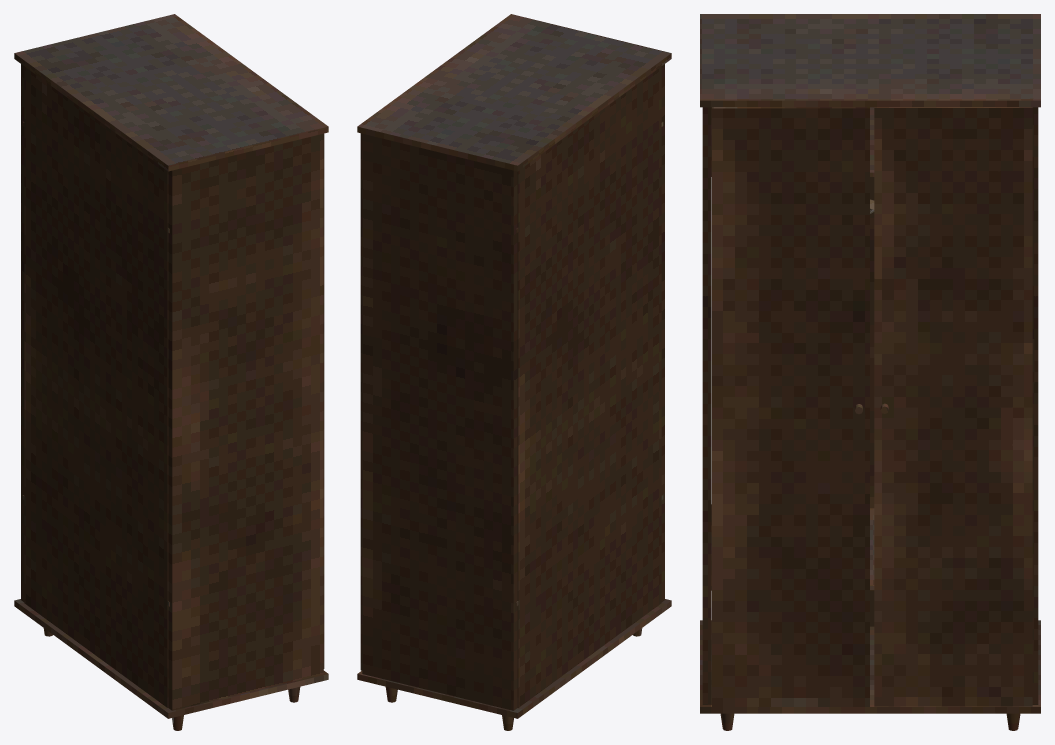
File: wardrobe_psx.glb
3 views of the same model, side by side, from view 1: azimuth 30°, elevation 25°; view 2: azimuth 150°, elevation 25°; view 3: azimuth 270°, elevation 25° (orthographic). The views are drawn at different scales.
Parts seen in each view (by area): view 1: Cube.002, Cube, Cube.003, Cube.001, Cube.006; view 2: Cube.002, Cube, Cube.003, Cube.001, Cube.005; view 3: Cube.005, Cube.006, Cube.003, Cube.002, Cube.001, Cube.
Boxes of the visible parts, <box> form: Cube.002: <box>21,64,323,710</box>; Cube: <box>24,66,168,707</box>; Cube.003: <box>14,14,328,171</box>; Cube.001: <box>14,599,328,718</box>; Cube.006: <box>323,134,324,668</box>; Cube.002: <box>362,64,664,710</box>; Cube: <box>517,66,661,707</box>; Cube.003: <box>357,14,671,171</box>; Cube.001: <box>357,599,671,718</box>; Cube.005: <box>360,133,362,670</box>; Cube.005: <box>874,107,1032,706</box>; Cube.006: <box>712,107,869,706</box>; Cube.003: <box>700,14,1040,107</box>; Cube.002: <box>702,107,1038,704</box>; Cube.001: <box>700,620,1040,713</box>; Cube: <box>870,177,874,626</box>.
Bounding box in the file's own units: 1.29 × 4.26 × 2.05.
1 material, 1 textured.
